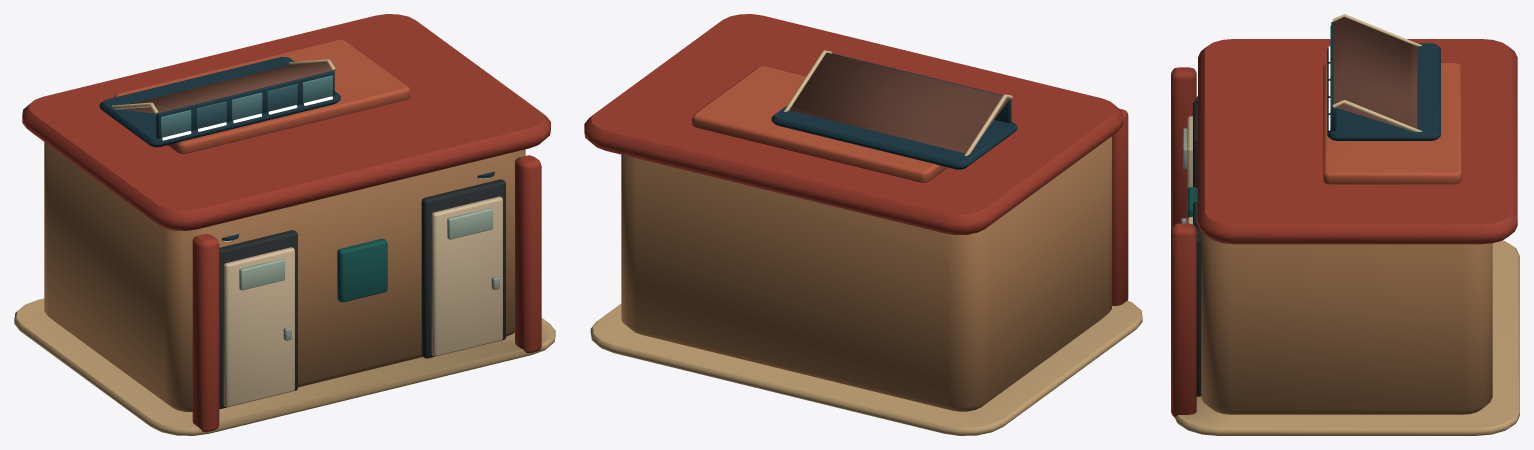
Rendered from restrooms.glb.
3 renders of one model, left to right at view 1: azimuth 30°, elevation 25°; view 2: azimuth 150°, elevation 25°; view 3: azimuth 270°, elevation 25°, orthographic. The views are drawn at different scales.
Visible parts, largest first — view 1: Restrooms; view 2: Restrooms; view 3: Restrooms.
Boxes of the visible parts, bbox=[...] form: Restrooms: bbox=[14, 14, 555, 435]; Restrooms: bbox=[584, 14, 1142, 435]; Restrooms: bbox=[1171, 14, 1519, 435].
Size of the model in its own units: 5.1 by 3.16 by 3.83.
